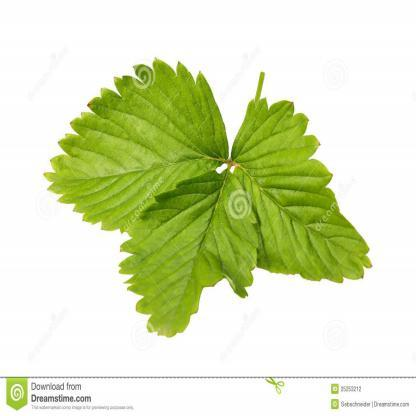Strawberry leaf: (42, 54, 230, 233), (234, 92, 378, 294), (118, 160, 262, 339)
